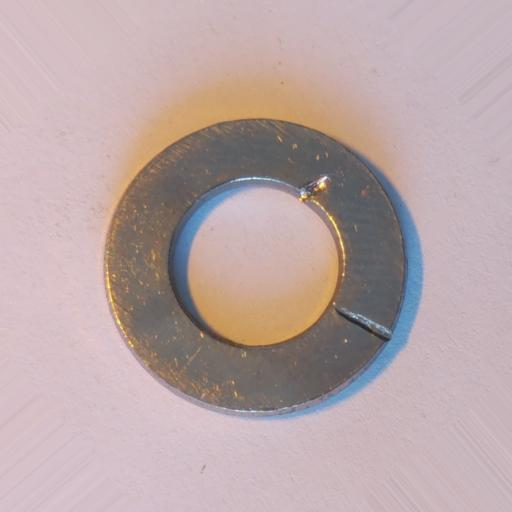scratch: (332, 304, 394, 342), (297, 175, 333, 201)
